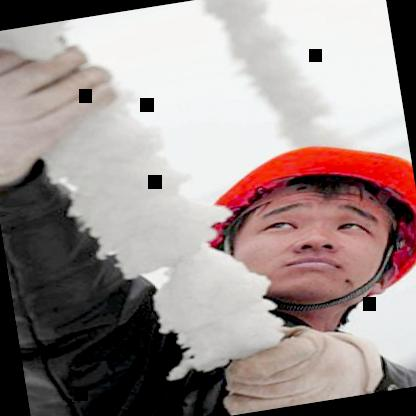helmet: (131, 114, 416, 351)
